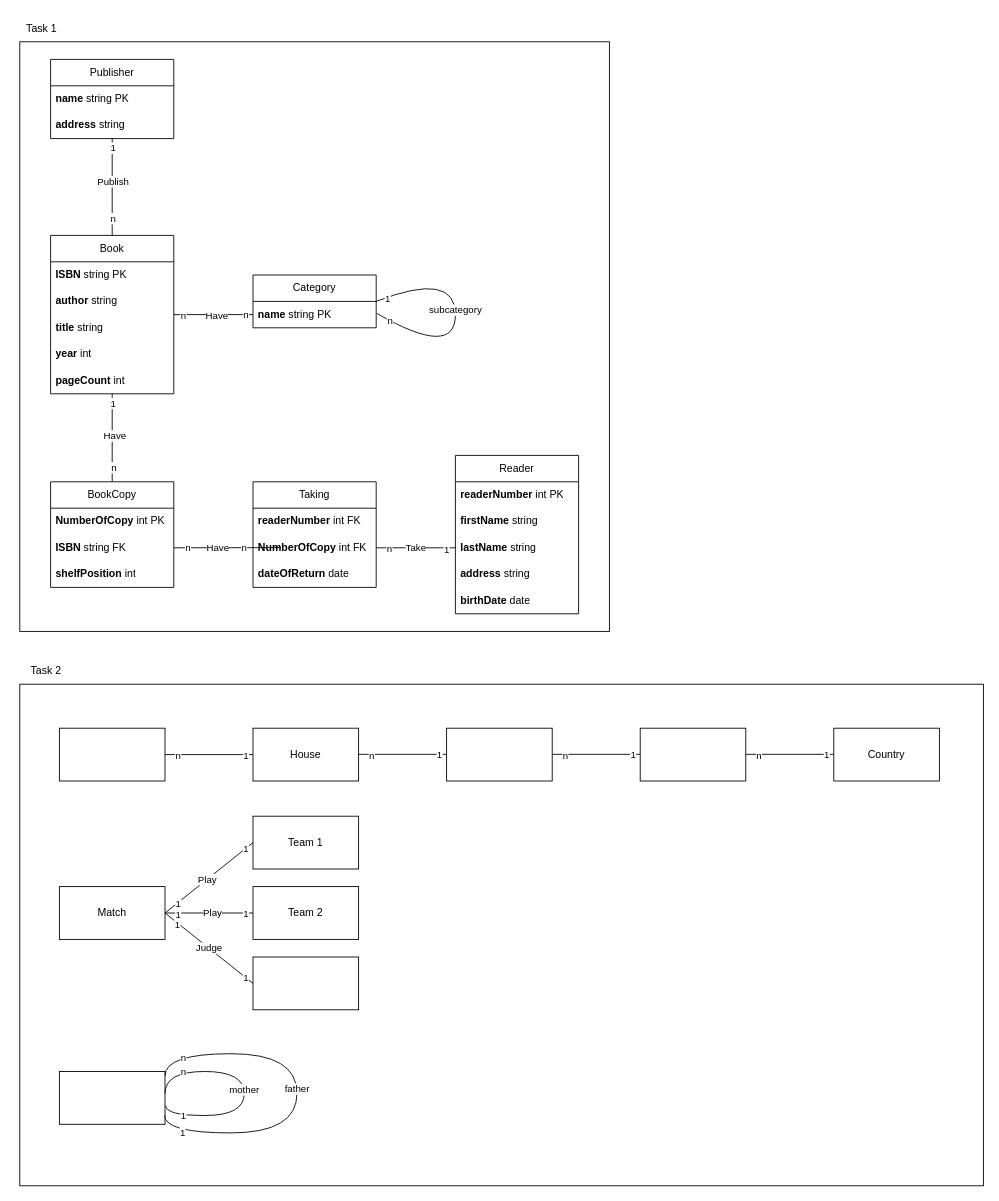
The diagram is 999 pixels wide and 1201 high, and some of its shapes have lost their labels. Each missing label, with the centre of its shape:
Apartament: the point at 112,754
Arbitrator: the point at 305,983
City: the point at 692,754
Person: the point at 112,1097
Street: the point at 499,754
